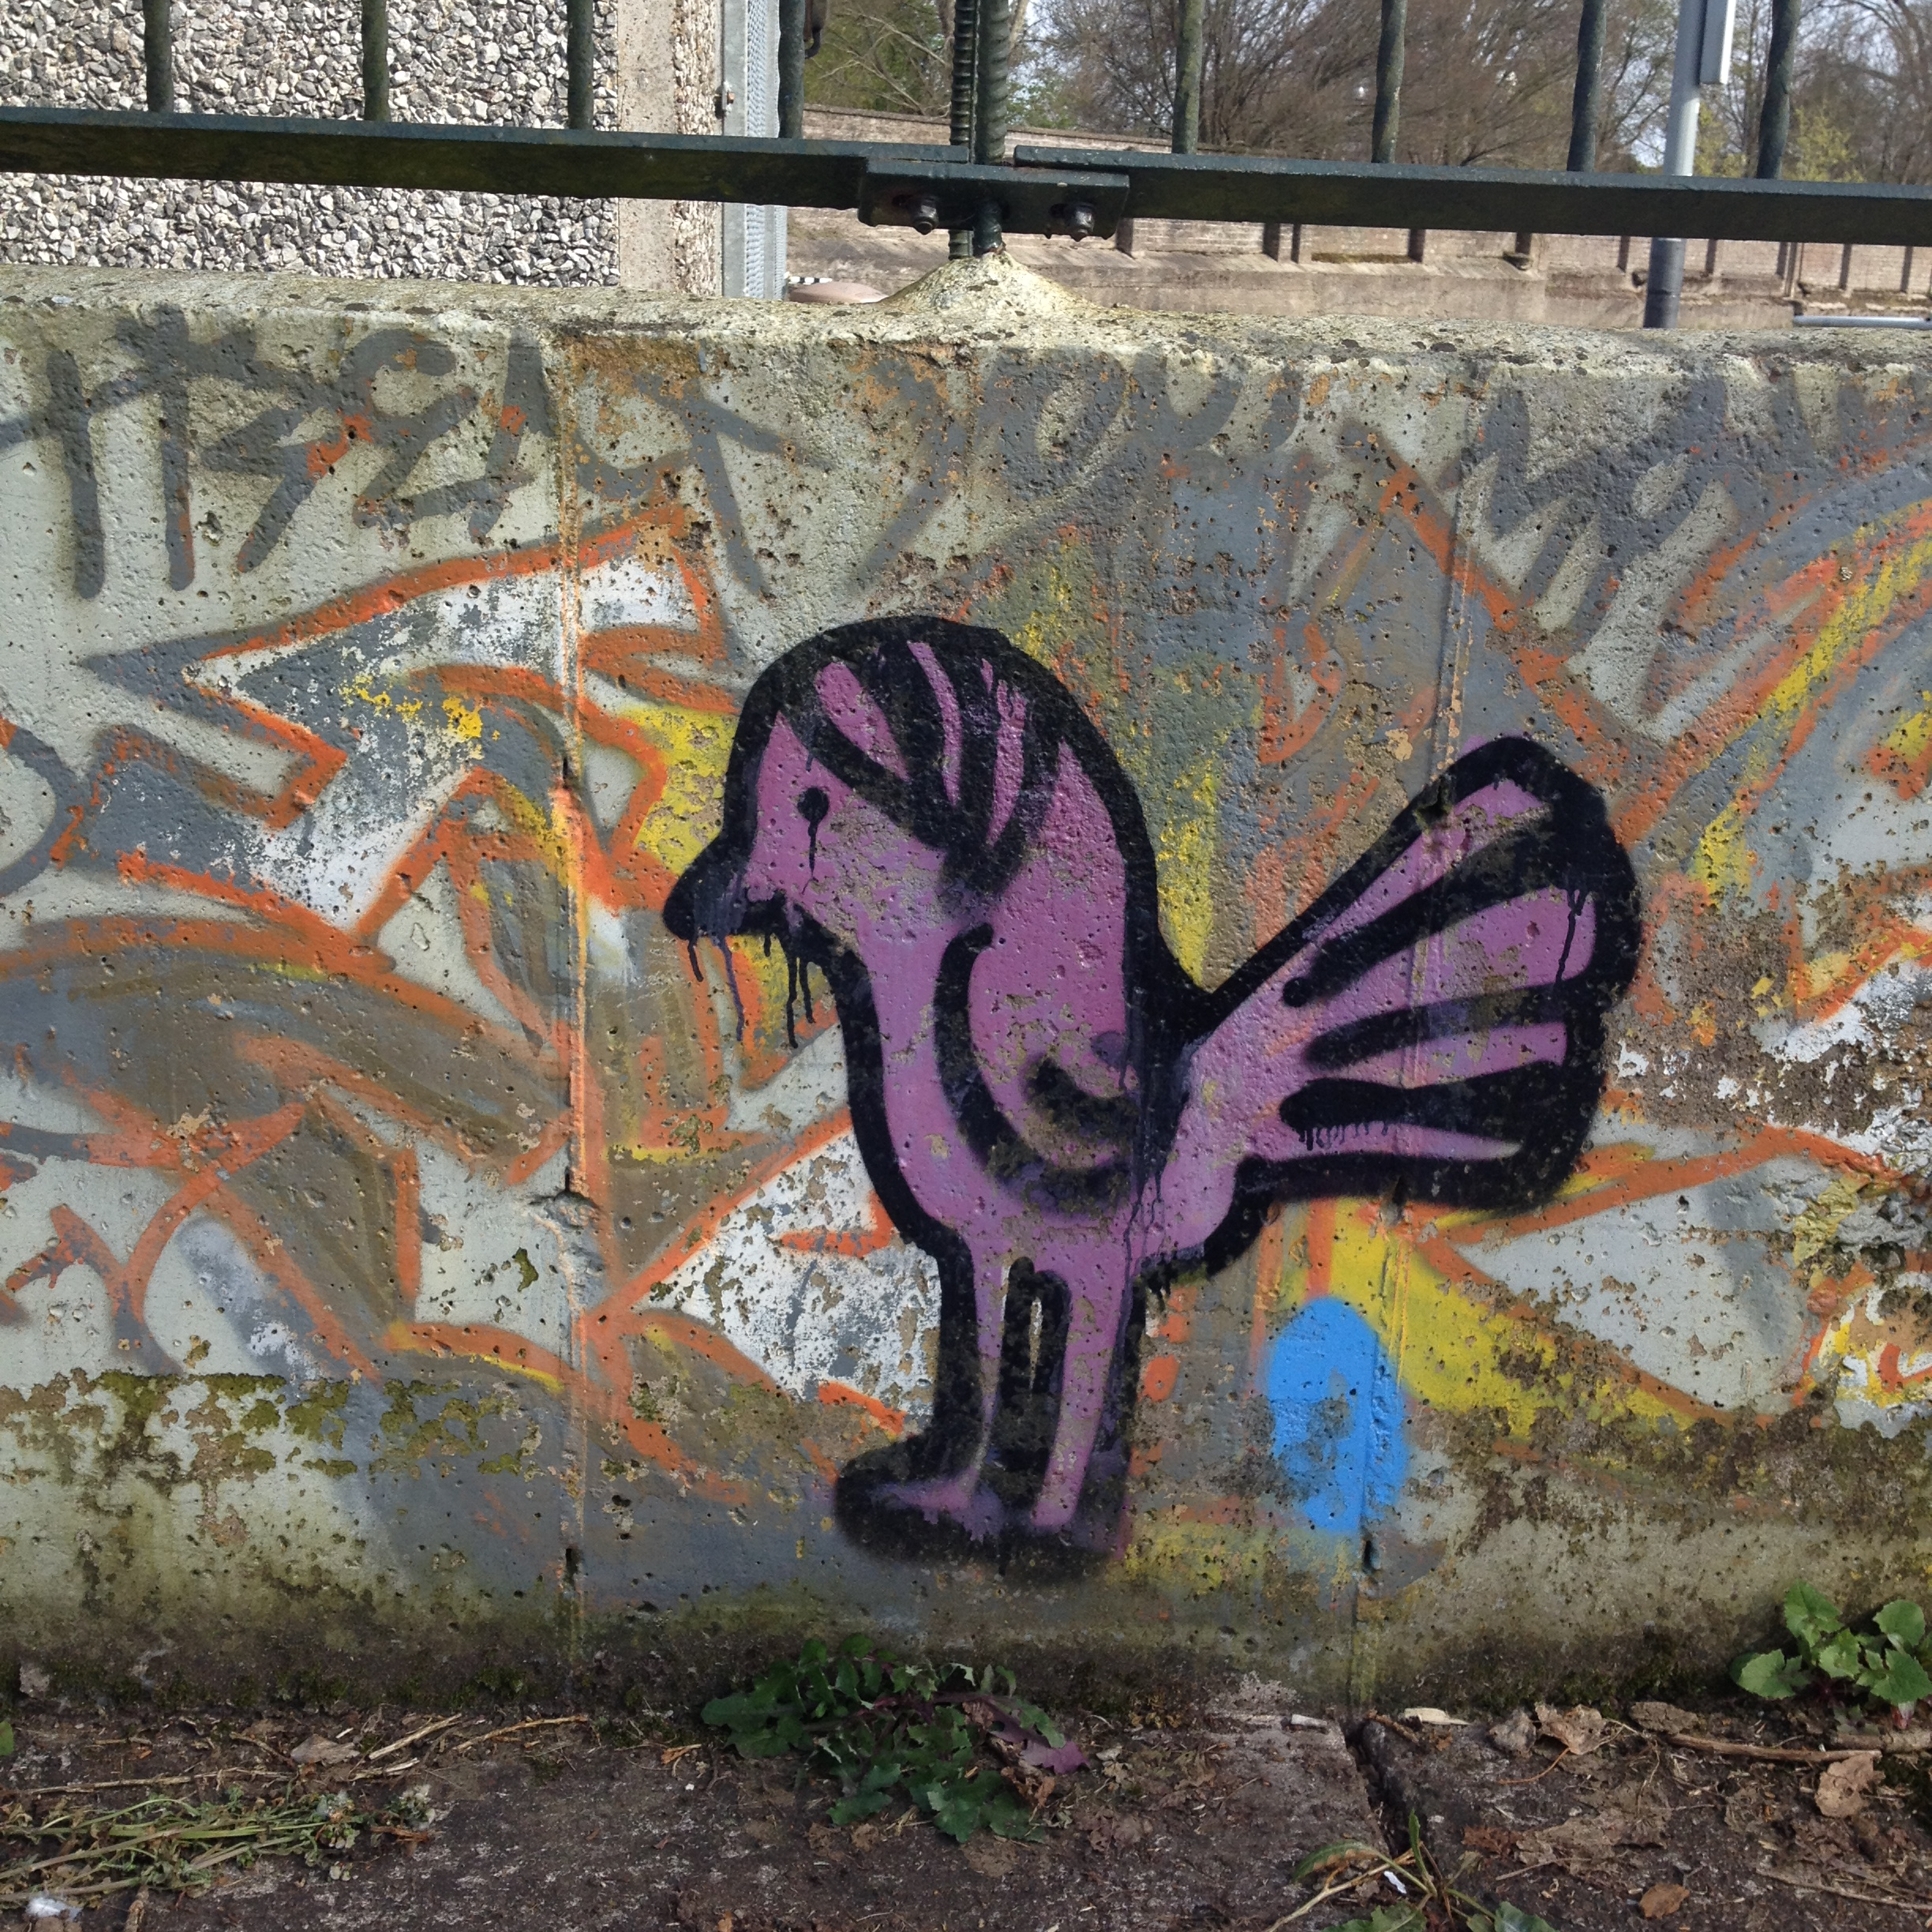graphite: (665, 602, 1612, 1624), (92, 304, 1932, 679), (0, 699, 541, 1415)
